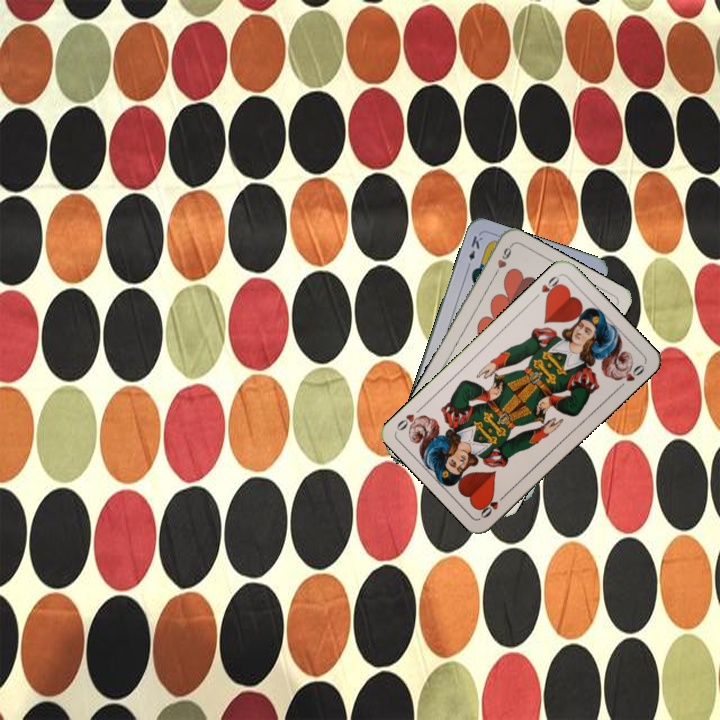EK: (463, 231, 485, 271)
H9: (490, 242, 515, 279)
HO: (530, 271, 564, 303), (476, 489, 510, 521)
